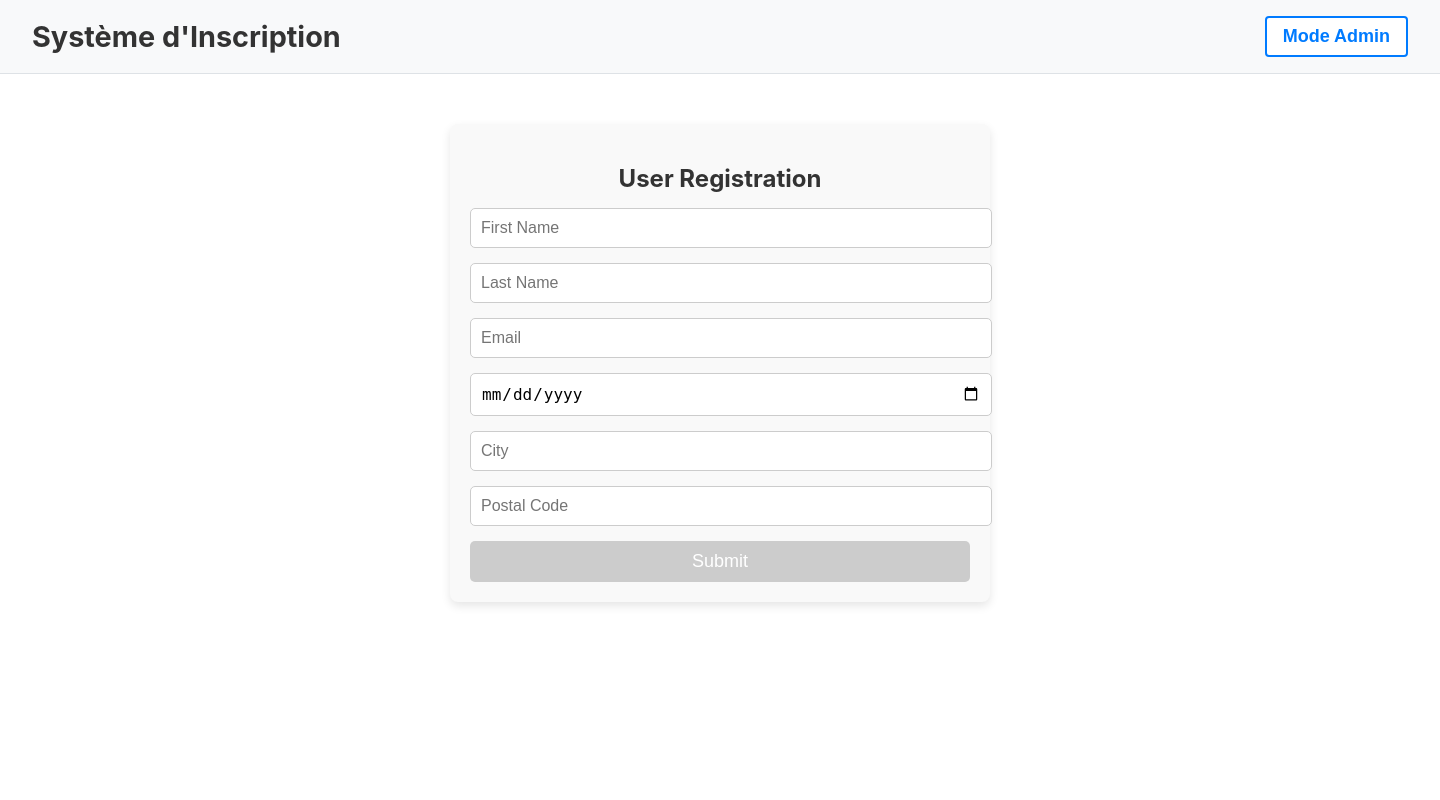
Scenario: Admin System › should authenticate with valid credentials and show dashboard
Click the button "Mode Admin": coordinates (1337, 37) [1265,16,1408,57]
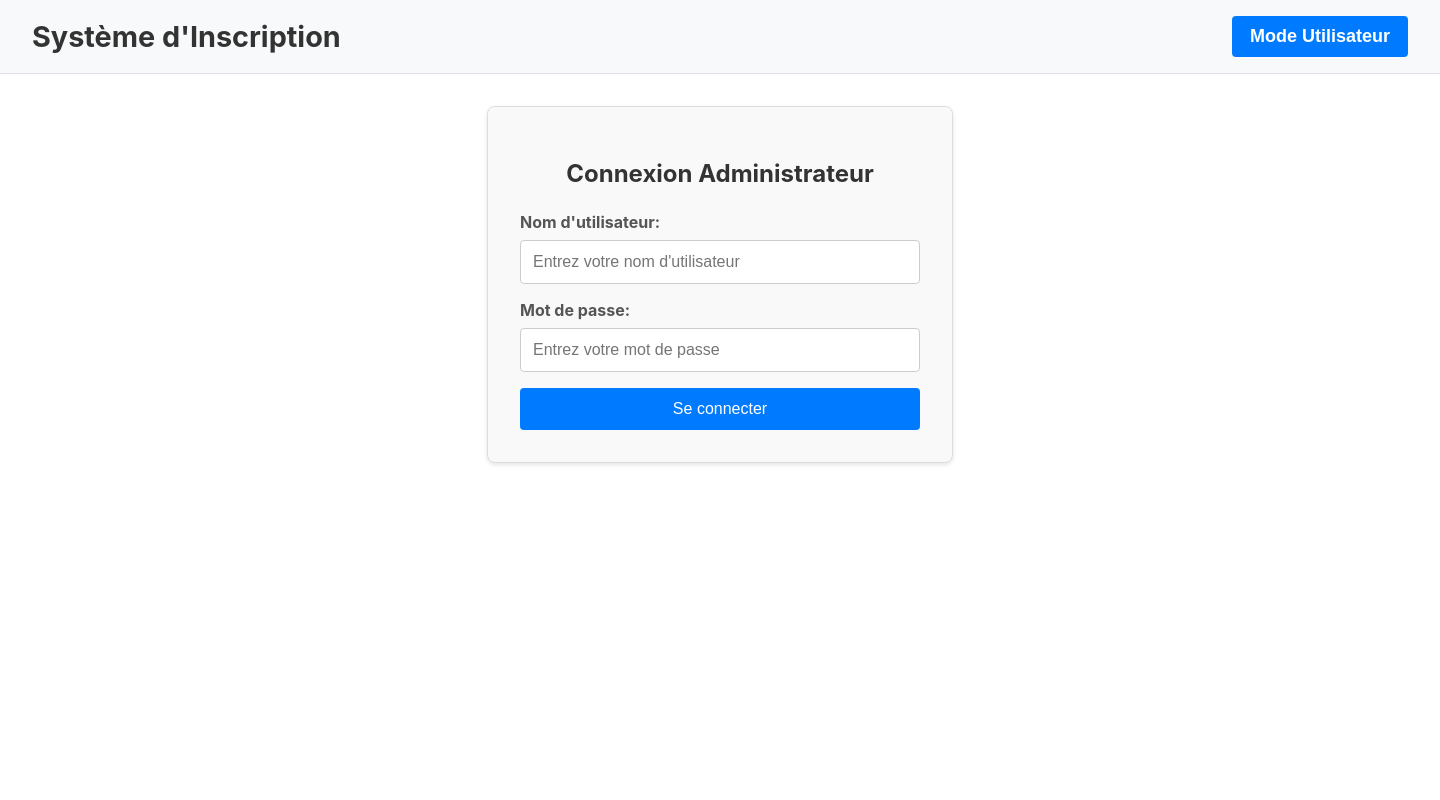
In the field with id "username": coordinates (720, 262) [520,240,920,284], type "admin"
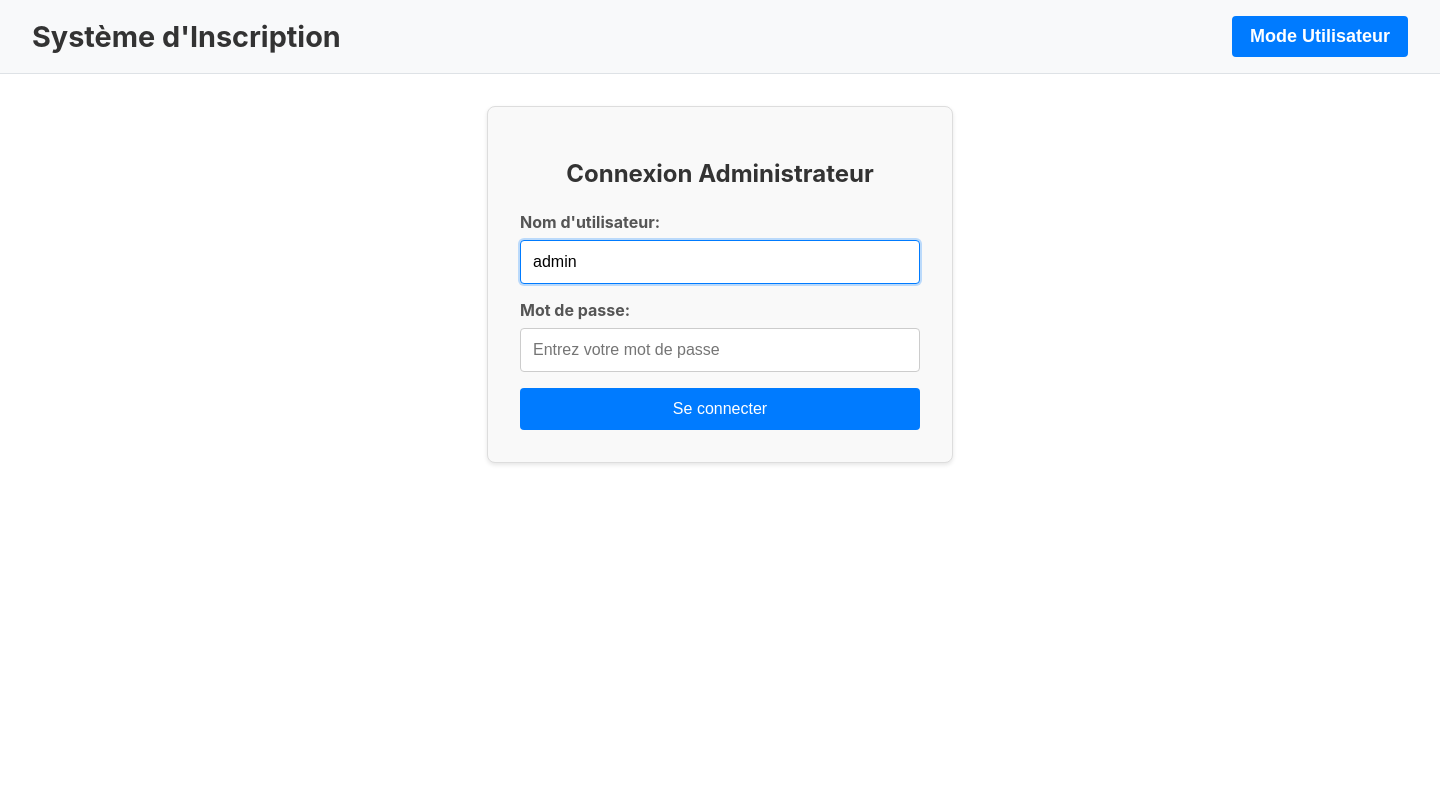
In the password field labelled "Mot de passe:": coordinates (720, 350) [520,328,920,372], type "admin123"
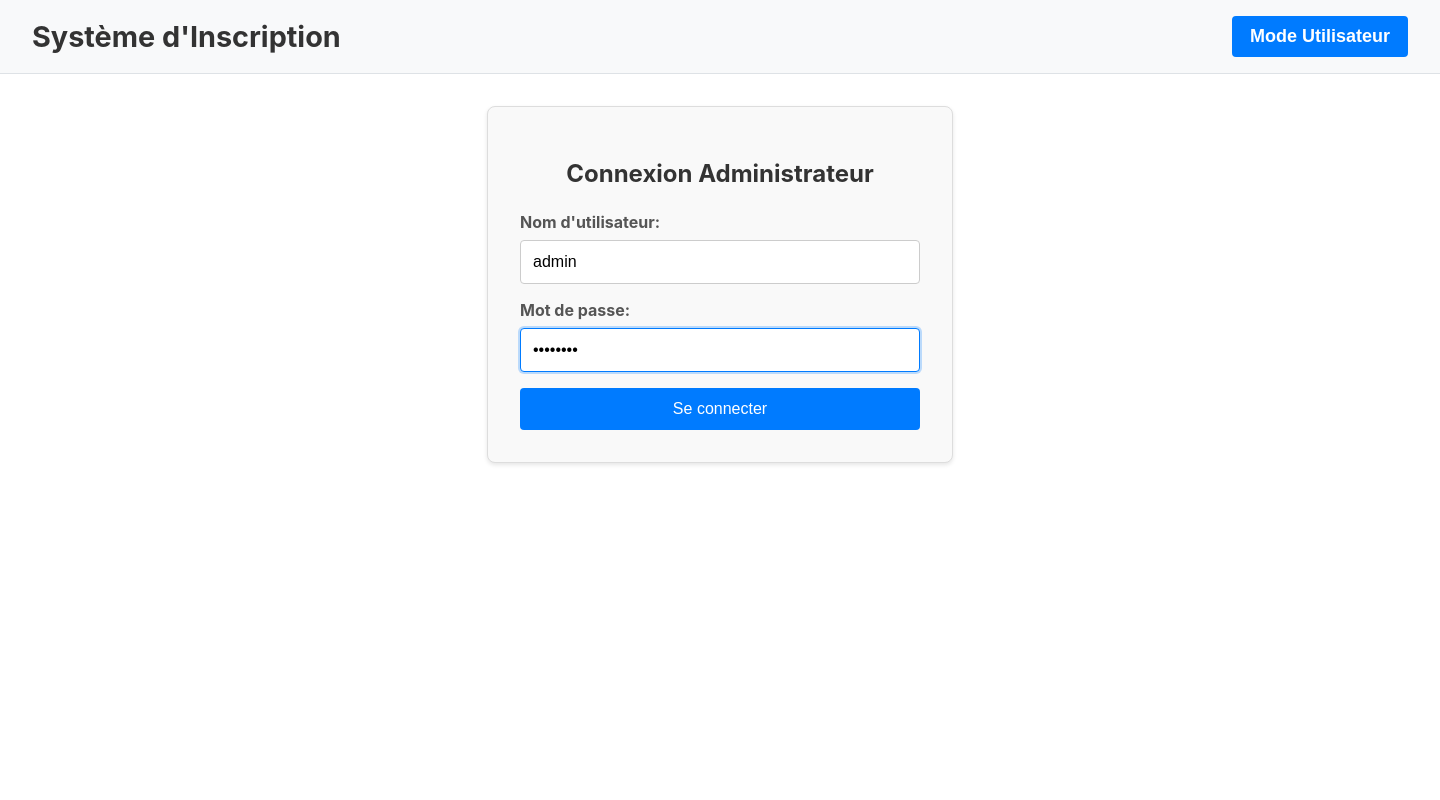
Click the submit button: coordinates (720, 409) [520,388,920,430]
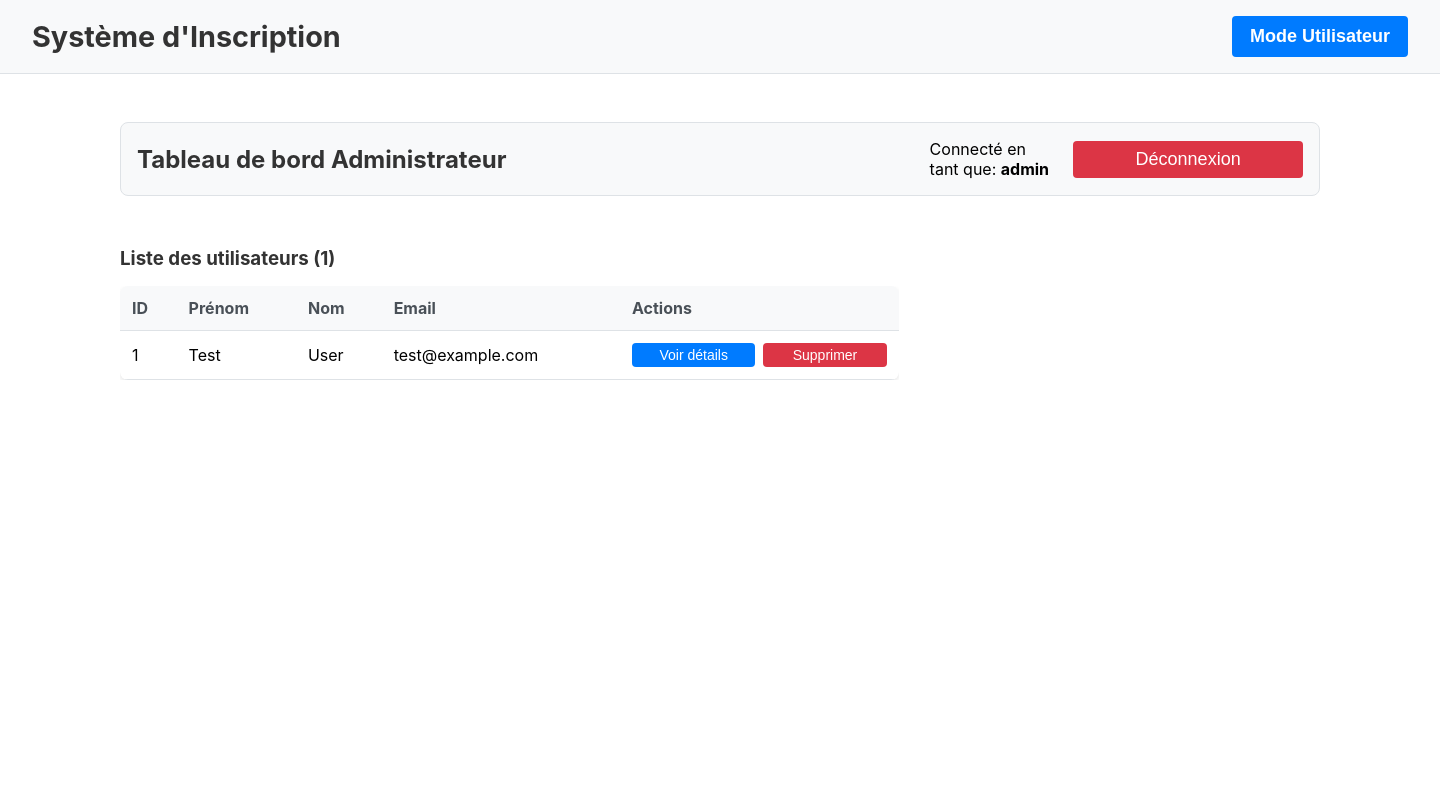
Expected: the heading "Tableau de bord Administrateur" is shown, [137,144,506,174]
Expected: the table is shown, [120,286,899,381]
Expected: the cell "Test" is shown, [177,330,296,380]
